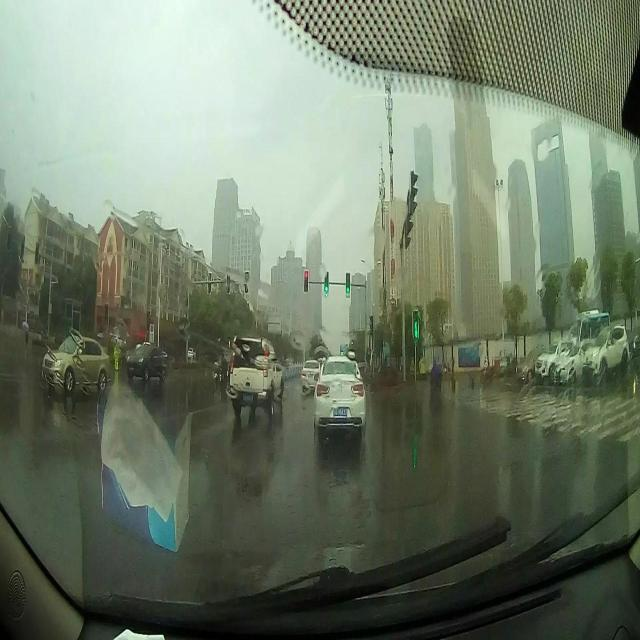car: (314, 353, 367, 438), (228, 336, 284, 412), (41, 336, 110, 389), (584, 326, 630, 389), (535, 338, 580, 378), (553, 346, 590, 388), (126, 343, 168, 379), (514, 344, 552, 382), (301, 357, 321, 397), (214, 351, 227, 382), (22, 319, 29, 347)
